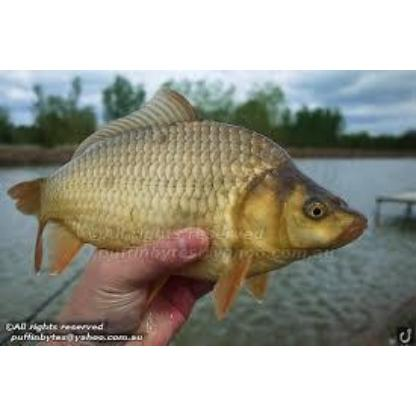ikan-mas: (14, 83, 366, 298)
